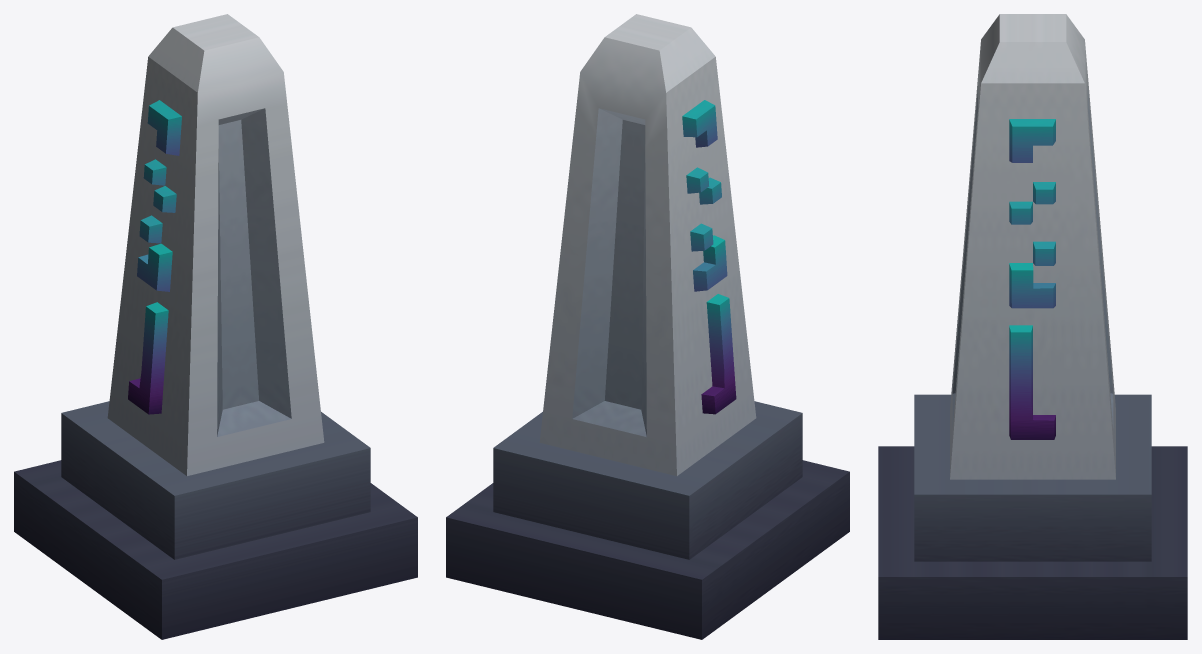
The model's file is RitualObelisk.fbx.
3 views of the same model, side by side, from view 1: azimuth 30°, elevation 25°; view 2: azimuth 150°, elevation 25°; view 3: azimuth 270°, elevation 25° (orthographic). The views are drawn at different scales.
Visible parts, largest first — view 1: pCube12; view 2: pCube12; view 3: pCube12.
Part boxes in pixels (x1,y1,x2,y2): pCube12: (14,14,417,639); pCube12: (446,14,849,639); pCube12: (878,14,1187,639).
Bounding box in the file's own units: 3 × 5.85 × 3.
